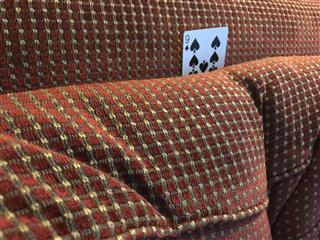NineOfSpades: (181, 26, 228, 76)
